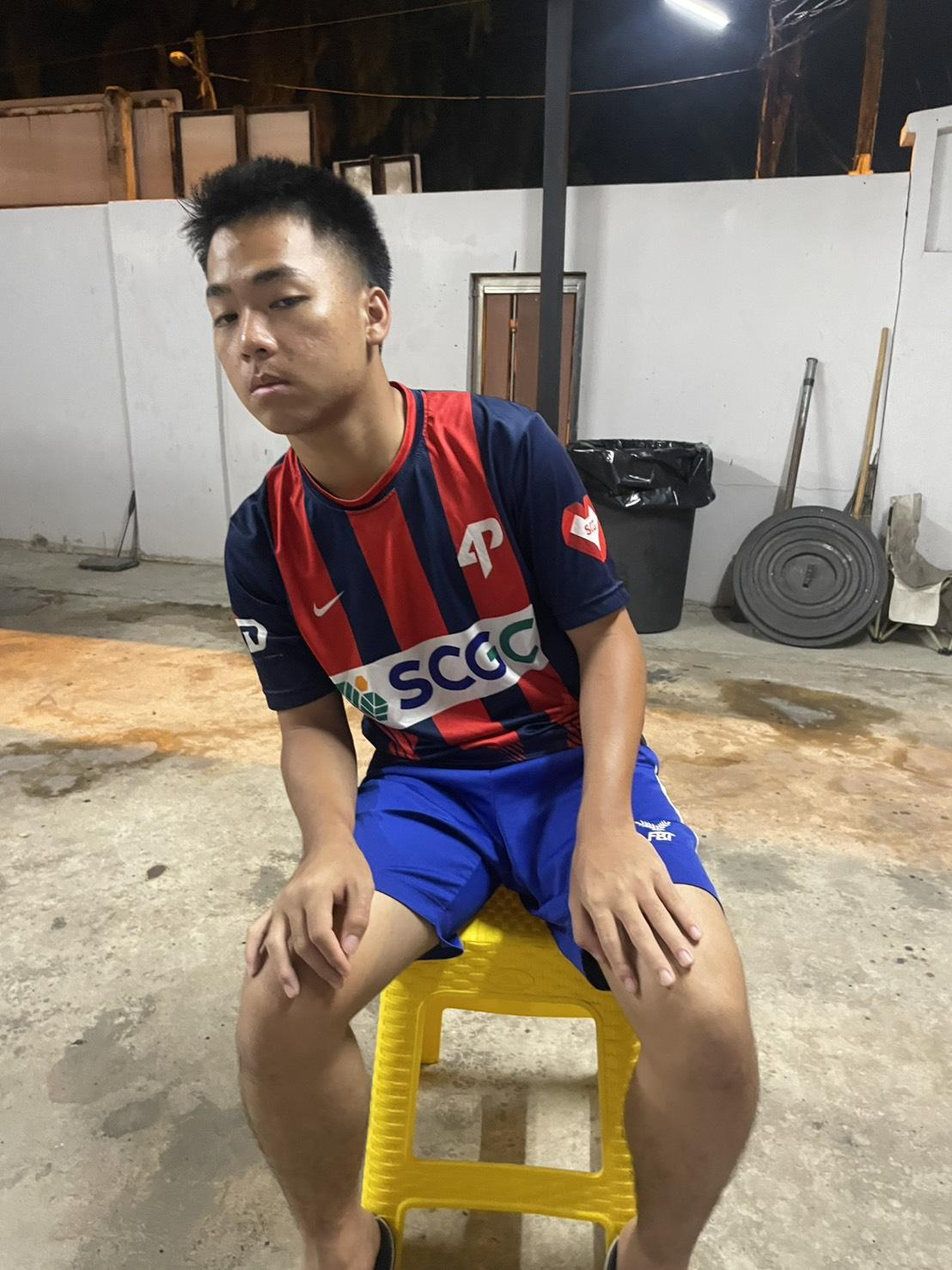BadPosture: (184, 157, 644, 851), (185, 157, 656, 788), (184, 157, 644, 772)
